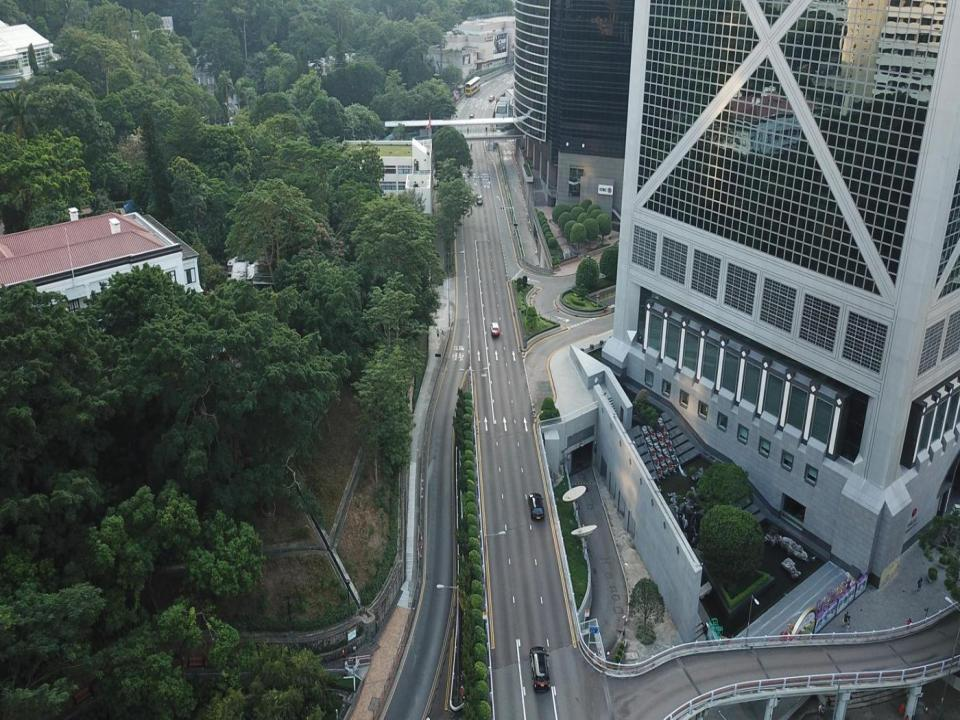bus: (464, 74, 482, 98)
car: (530, 647, 550, 695), (527, 492, 546, 523), (489, 321, 500, 339), (477, 194, 484, 207), (488, 93, 495, 102), (485, 125, 490, 136)
